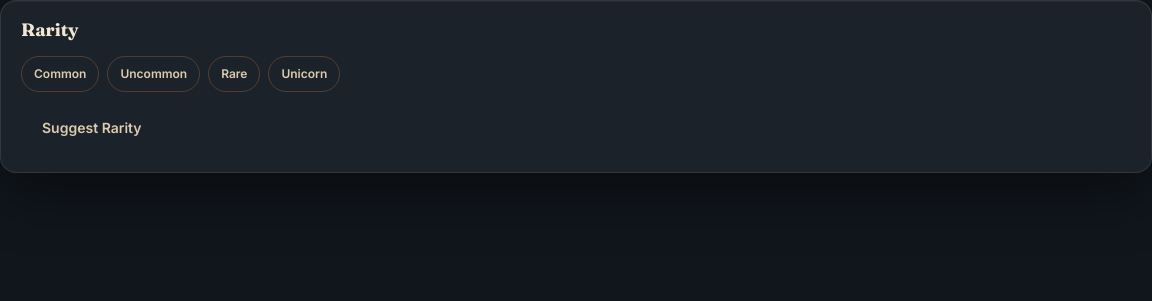
Scenario: RarityFieldsCard › a suggestion failure shows the nontechnical error message without any technical detail
Click the button "Suggest Rarity" at (92,128), box left=21, top=104, right=162, bottom=152
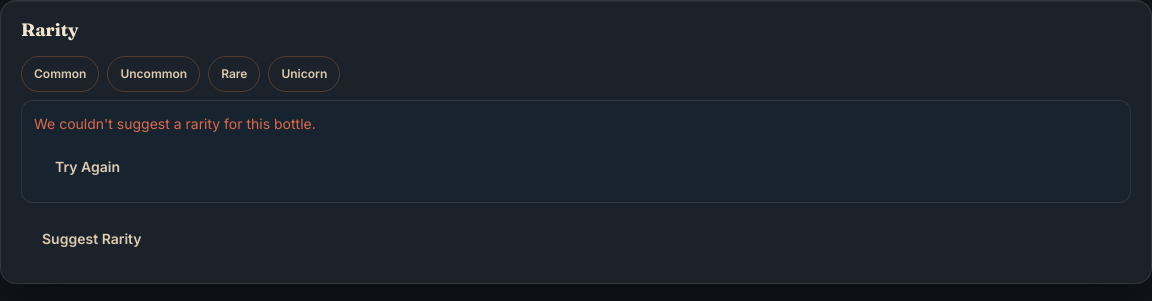
expect the text "We couldn't suggest a rarity for this bottle." is shown: met, box left=34, top=115, right=316, bottom=132
